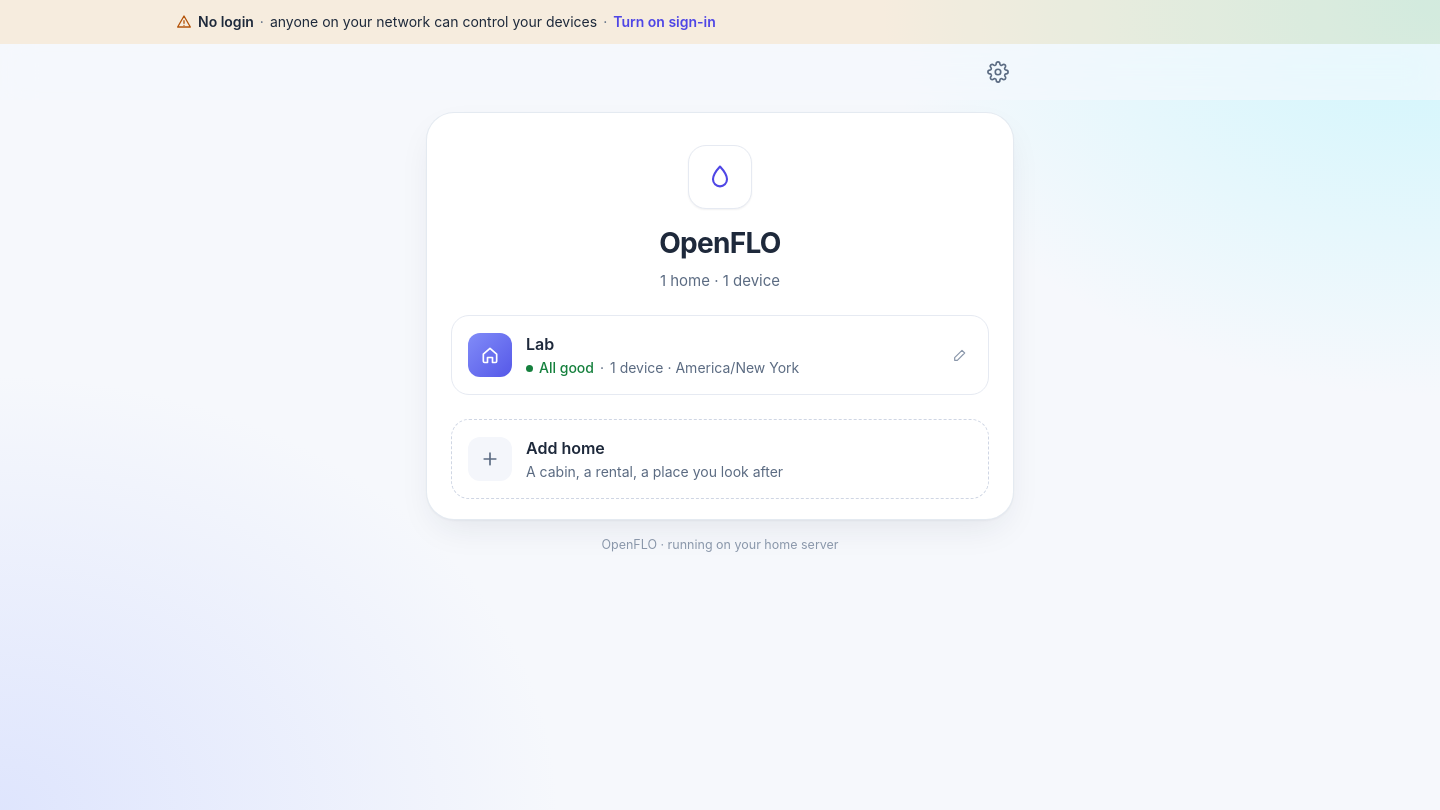
NoLoginBanner › tops every app page in auth mode none, as a status with the docs link
Expected: the message "No login · anyone on your network can control your devices · Turn on sign-in" is shown, [0,0,1439,44]
Click the link named "Settings": (998, 72) [987,61,1009,83]
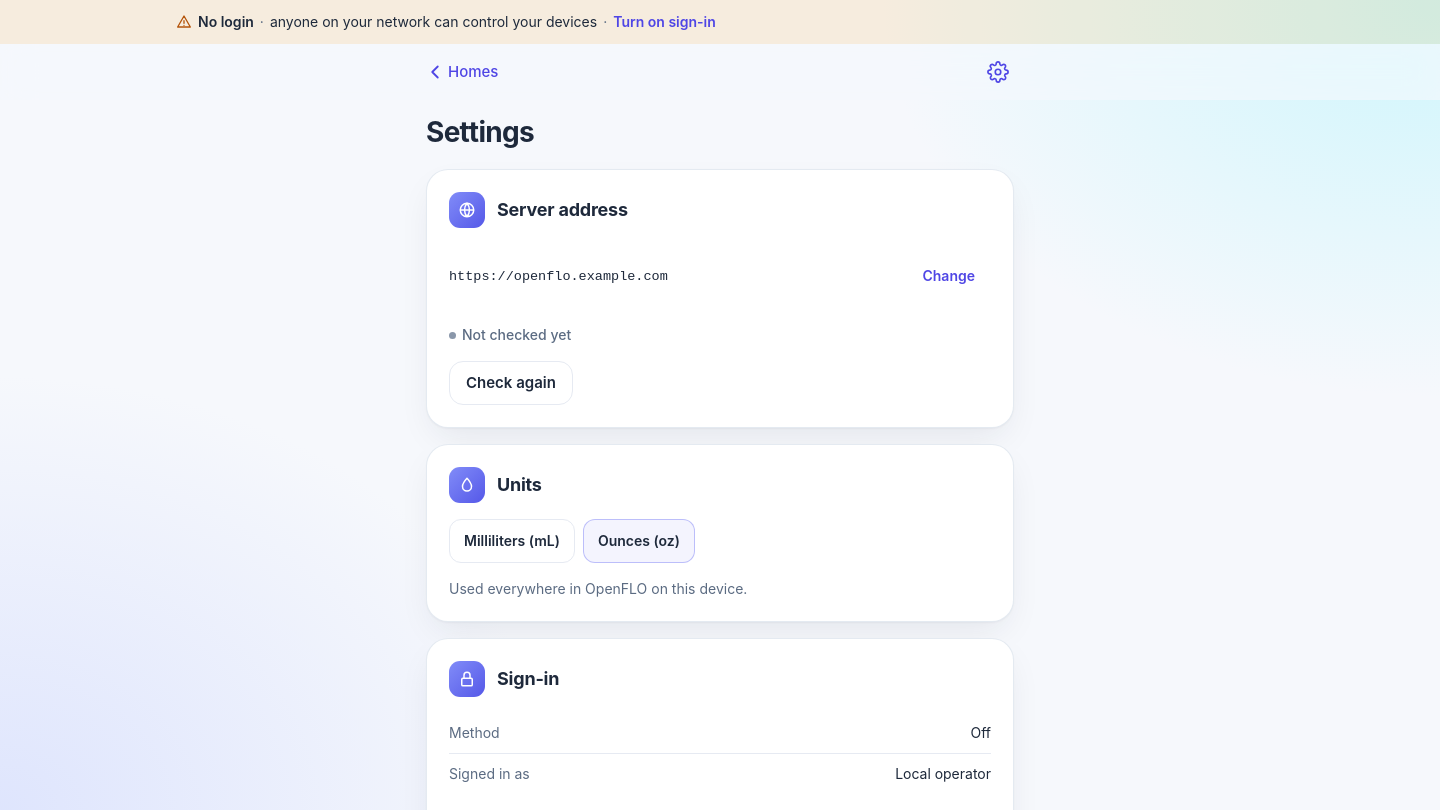
Expected: the message "No login · anyone on your network can control your devices · Turn on sign-in" is shown, [0,0,1439,44]
Expected: the heading "Settings" is shown, [426,115,534,149]
